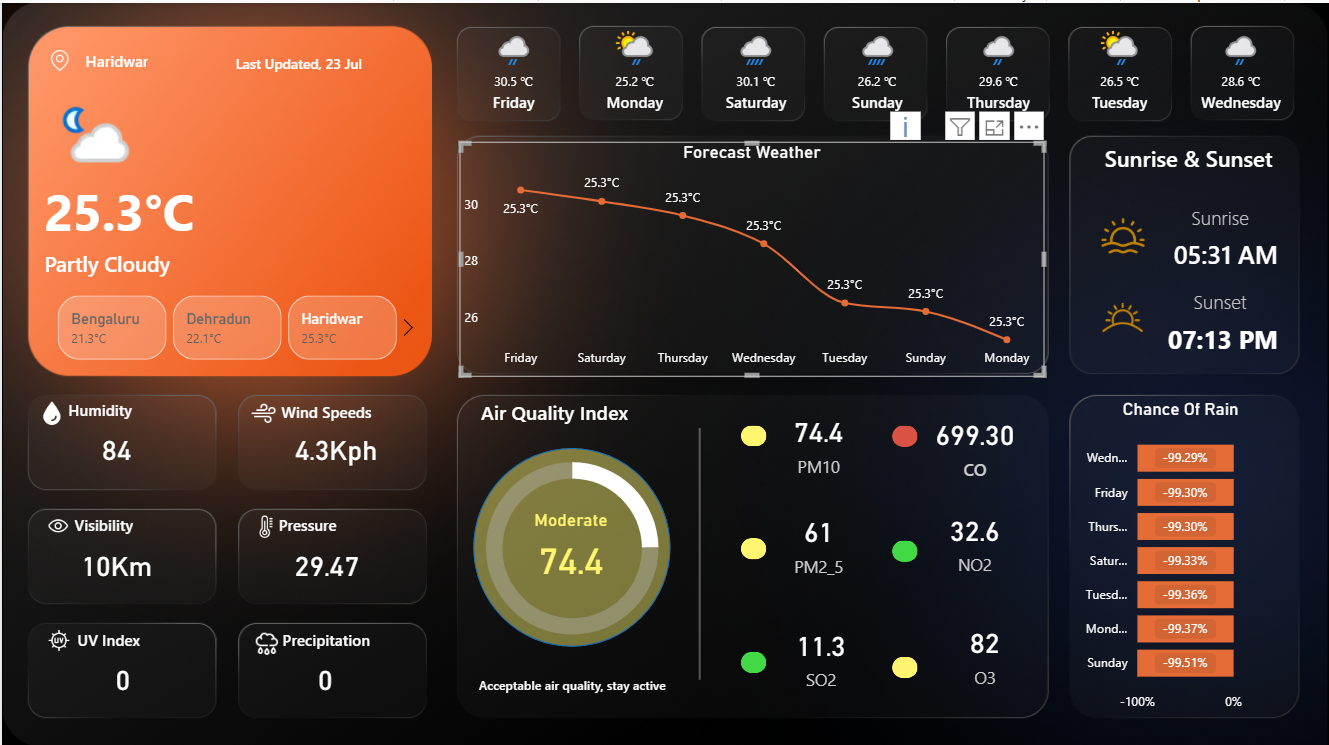

This screenshot's page, from the dashboard's own definition file:
{"tool":"powerbi","page":{"name":"Page 1","canvas":[1280,720],"ordinal":0},"visuals":[{"type":"shape","box":[455.3,429.1,190.4,191.8],"z":0},{"type":"donutChart","fields":{"Y":["Sum(Current.current.air_quality.pm10)","Current.Last_value_pm10"]},"box":[441.5,411.1,218,230.4],"z":1000},{"type":"advancedSlicerVisual","fields":{"Values":["Locations.location.name"]},"box":[28.8,277.2,378.7,72.7],"z":2000},{"type":"shape","box":[41,161.7,240.1,77.2],"z":3000},{"type":"shape","box":[41,230.4,358.3,41],"z":4000},{"type":"shape","box":[38.6,35,144.8,41],"z":5000},{"type":"shape","box":[225.6,37.4,173.7,41],"z":6000},{"type":"image","box":[41,37.4,30.2,36.2],"z":7000},{"type":"cardVisual","fields":{"Data":["Min(Current.current.condition.icon)"]},"box":[29,78.4,101.3,86.9],"z":8000},{"type":"shape","box":[49.5,377.6,90.5,30.2],"z":9000},{"type":"image","box":[31.4,377.6,33.8,36.2],"z":10000},{"type":"shape","box":[267.8,380,90.5,30.2],"z":11000},{"type":"image","box":[230.4,378.8,43.4,35],"z":12000},{"type":"shape","box":[53.1,488.6,90.5,30.2],"z":13000},{"type":"image","box":[37.4,488.6,33.8,32.6],"z":14000},{"type":"shape","box":[249.7,488.6,90.5,30.2],"z":15000},{"type":"image","box":[235.3,489.8,38.6,31.4],"z":16000},{"type":"shape","box":[57.9,599.6,90.5,30.2],"z":17000},{"type":"image","box":[38.6,599.6,32.6,31.4],"z":18000},{"type":"shape","box":[267.8,599.6,90.5,30.2],"z":19000},{"type":"image","box":[237.7,599.6,36.2,37.4],"z":20000},{"type":"card","fields":{"Values":["Sum(Current.current.humidity)"]},"box":[65.1,393.3,91.7,74.8],"z":21000},{"type":"card","fields":{"Values":["measure.Wind_Speeds"]},"box":[255.8,393.3,133.9,74.8],"z":22000},{"type":"card","fields":{"Values":["measure.visibility"]},"box":[65.1,505.5,91.7,74.8],"z":23000},{"type":"card","fields":{"Values":["Sum(Current.current.pressure_in)"]},"box":[267.8,505.5,91.7,74.8],"z":24000},{"type":"card","fields":{"Values":["Sum(Current.current.uv)"]},"box":[71.2,615.3,91.7,74.8],"z":25000},{"type":"card","fields":{"Values":["Sum(Current.current.precip_in)"]},"box":[266.6,615.3,91.7,74.8],"z":26000},{"type":"advancedSlicerVisual","title":"Day name","fields":{"Values":["Forecast_Day.Day_name"]},"box":[433.7,14.4,822.9,102.2],"z":27000},{"type":"lineChart","title":"Forecast Weather","fields":{"Category":["Forecast_Day.Day_name"],"Y":["Sum(Forecast_Day.forecast.forecastday.day.avgtemp_c)"]},"box":[441.6,133.7,564.8,226.7],"z":28000},{"type":"shape","box":[1120.4,220.1,120.6,47.2],"z":29000},{"type":"shape","box":[1026,133.7,239.8,31.4],"z":30000},{"type":"shape","box":[1115.2,191.3,121.9,30.1],"z":31000},{"type":"shape","box":[1115.2,300.1,127.1,48.5],"z":32000},{"type":"shape","box":[1115.2,272.6,121.9,30.1],"z":33000},{"type":"image","box":[1048.3,272.6,66.8,61.6],"z":34000},{"type":"image","box":[1048.3,199.2,66.8,51.1],"z":35000},{"type":"hundredPercentStackedBarChart","title":"Chance Of Rain","fields":{"Y":["Sum(Forecast_Day.forecast.forecastday.day.daily_chance_of_rain)","Current.Last Chances"],"Category":["Forecast_Day.Day_name"]},"box":[1026.4,380.8,222.1,311.8],"z":36000},{"type":"shape","box":[441.5,379.4,183.5,31.7],"z":37000},{"type":"card","fields":{"Values":["Sum(Current.current.air_quality.co)"]},"box":[871.9,387.7,133.8,80],"z":38000},{"type":"card","fields":{"Values":["Sum(Current.current.air_quality.no2)"]},"box":[871.9,481.5,133.8,75.9],"z":39000},{"type":"card","fields":{"Values":["Sum(Current.current.air_quality.o3)"]},"box":[881.6,590.5,133.8,75.9],"z":40000},{"type":"card","fields":{"Values":["Sum(Current.current.air_quality.pm10)"]},"box":[721.5,386.3,133.8,75.9],"z":41000},{"type":"card","fields":{"Values":["Sum(Current.current.air_quality.pm2_5)"]},"box":[721.5,482.9,133.8,75.9],"z":42000},{"type":"card","fields":{"Values":["Sum(Current.current.air_quality.so2)"]},"box":[724.3,591.9,133.8,75.9],"z":43000},{"type":"shape","box":[713.3,408.4,25,20],"z":44000},{"type":"shape","box":[713.3,516,24.8,20.7],"z":45000},{"type":"shape","box":[713.3,626.3,24.8,20.7],"z":46000},{"type":"shape","box":[859.5,408.4,24.8,20.7],"z":47000},{"type":"shape","box":[859.5,518.7,24.8,20.7],"z":48000},{"type":"shape","box":[859.5,630.5,24.8,20.7],"z":49000},{"type":"shape","box":[652.6,409.7,41.4,242.8],"z":50000},{"type":"card","fields":{"Values":["Sum(Current.current.air_quality.pm10)"]},"box":[493.9,488.4,111.7,75.9],"z":51000},{"type":"shape","box":[441.5,626.3,218,63.5],"z":52000}]}

Visuals, with their boxes in screenshot pixels (x1, y1, x2, y2), scaled from the page's 1280x720 canvas onto the 1329x745 screenshot:
shape: rect(473, 444, 670, 642)
donutChart - Sum(Current.current.air_quality.pm10) x Current.Last_value_pm10: rect(458, 425, 685, 664)
advancedSlicerVisual - Locations.location.name: rect(30, 287, 423, 362)
shape: rect(43, 167, 292, 247)
shape: rect(43, 238, 415, 281)
shape: rect(40, 36, 190, 79)
shape: rect(234, 39, 415, 81)
image: rect(43, 39, 74, 76)
cardVisual - Min(Current.current.condition.icon): rect(30, 81, 135, 171)
shape: rect(51, 391, 145, 422)
image: rect(33, 391, 68, 428)
shape: rect(278, 393, 372, 424)
image: rect(239, 392, 284, 428)
shape: rect(55, 506, 149, 537)
image: rect(39, 506, 74, 539)
shape: rect(259, 506, 353, 537)
image: rect(244, 507, 284, 539)
shape: rect(60, 620, 154, 652)
image: rect(40, 620, 74, 653)
shape: rect(278, 620, 372, 652)
image: rect(247, 620, 284, 659)
card - Sum(Current.current.humidity): rect(68, 407, 163, 484)
card - measure.Wind_Speeds: rect(266, 407, 405, 484)
card - measure.visibility: rect(68, 523, 163, 600)
card - Sum(Current.current.pressure_in): rect(278, 523, 373, 600)
card - Sum(Current.current.uv): rect(74, 637, 169, 714)
card - Sum(Current.current.precip_in): rect(277, 637, 372, 714)
"Day name" advancedSlicerVisual: rect(450, 15, 1305, 121)
"Forecast Weather" lineChart: rect(459, 138, 1045, 373)
shape: rect(1163, 228, 1289, 277)
shape: rect(1065, 138, 1314, 171)
shape: rect(1158, 198, 1284, 229)
shape: rect(1158, 311, 1290, 361)
shape: rect(1158, 282, 1284, 313)
image: rect(1088, 282, 1158, 346)
image: rect(1088, 206, 1158, 259)
"Chance Of Rain" hundredPercentStackedBarChart: rect(1066, 394, 1296, 717)
shape: rect(458, 393, 649, 425)
card - Sum(Current.current.air_quality.co): rect(905, 401, 1044, 484)
card - Sum(Current.current.air_quality.no2): rect(905, 498, 1044, 577)
card - Sum(Current.current.air_quality.o3): rect(915, 611, 1054, 690)
card - Sum(Current.current.air_quality.pm10): rect(749, 400, 888, 478)
card - Sum(Current.current.air_quality.pm2_5): rect(749, 500, 888, 578)
card - Sum(Current.current.air_quality.so2): rect(752, 612, 891, 691)
shape: rect(741, 423, 767, 443)
shape: rect(741, 534, 766, 555)
shape: rect(741, 648, 766, 669)
shape: rect(892, 423, 918, 444)
shape: rect(892, 537, 918, 558)
shape: rect(892, 652, 918, 674)
shape: rect(678, 424, 721, 675)
card - Sum(Current.current.air_quality.pm10): rect(513, 505, 629, 584)
shape: rect(458, 648, 685, 714)
